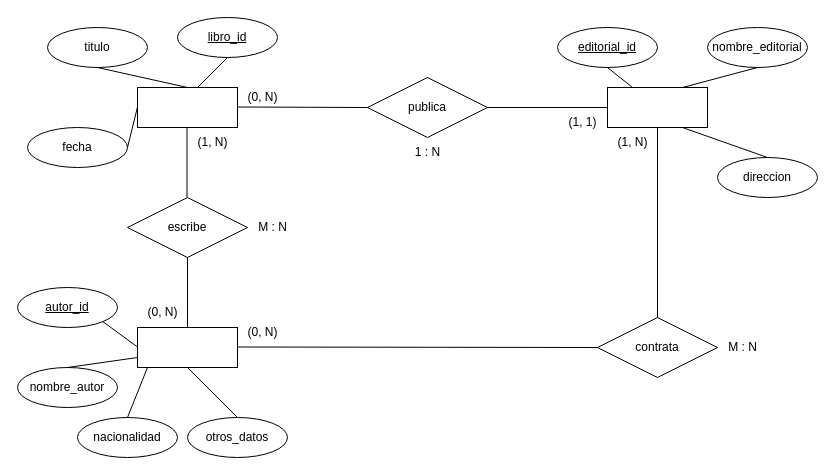
The diagram is 835 pixels wide and 475 high, and some of its shapes have lost their labels. The centre of each missing label's shape, as x and y in pixels:
"AUTOR" goes at [187,347].
"EDITORIAL" goes at [657,107].
"LIBRO" goes at [187,107].
